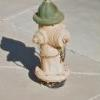Hydrant: (22, 3, 74, 93)
